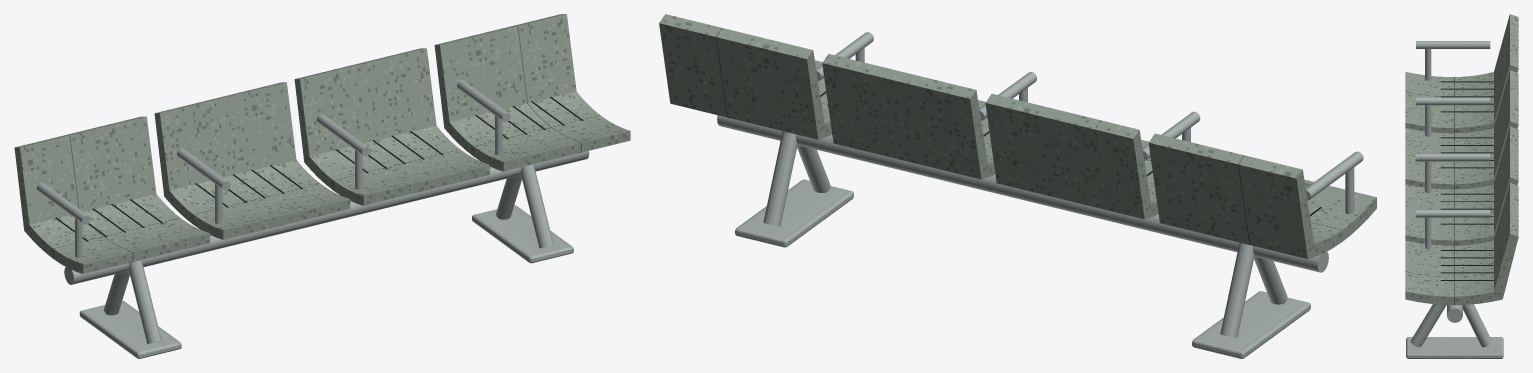
The model's file is detail-bench-sage-1.glb.
3 views of the same model, side by side, from view 1: azimuth 30°, elevation 25°; view 2: azimuth 150°, elevation 25°; view 3: azimuth 270°, elevation 25° (orthographic). The views are drawn at different scales.
Visible parts, largest first — view 1: curved_seat_back (×4), bolted_foot (×2), underseat_beam, support_leg (×4), arm_rest (×4); view 2: curved_seat_back (×4), bolted_foot (×2), underseat_beam, support_leg (×4), arm_rest; view 3: curved_seat_back (×4), arm_rest (×4), bolted_foot, seat_perforation (×12), support_leg (×2), arm_support (×4), underseat_beam.
Part boxes in pixels (box(x1,y1,x2,y2)): curved_seat_back (×4): box(14, 14, 630, 273); bolted_foot (×2): box(79, 205, 573, 358); underseat_beam: box(64, 151, 589, 284); support_leg (×4): box(104, 164, 553, 343); arm_rest (×4): box(36, 80, 510, 224); curved_seat_back (×4): box(659, 14, 1376, 258); bolted_foot (×2): box(735, 179, 1310, 358); underseat_beam: box(717, 115, 1328, 272); support_leg (×4): box(763, 131, 1287, 337); arm_rest: box(1305, 151, 1363, 200); curved_seat_back (×4): box(1405, 14, 1518, 305); arm_rest (×4): box(1416, 41, 1490, 217); bolted_foot: box(1406, 337, 1503, 358); seat_perforation (×12): box(1440, 81, 1493, 273); support_leg (×2): box(1410, 304, 1492, 347); arm_support (×4): box(1425, 48, 1431, 249); underseat_beam: box(1447, 305, 1462, 322).
Bounding box in the file's own units: 2.93 × 0.9225 × 0.64.
Materials: 3 (3 with a texture image).
